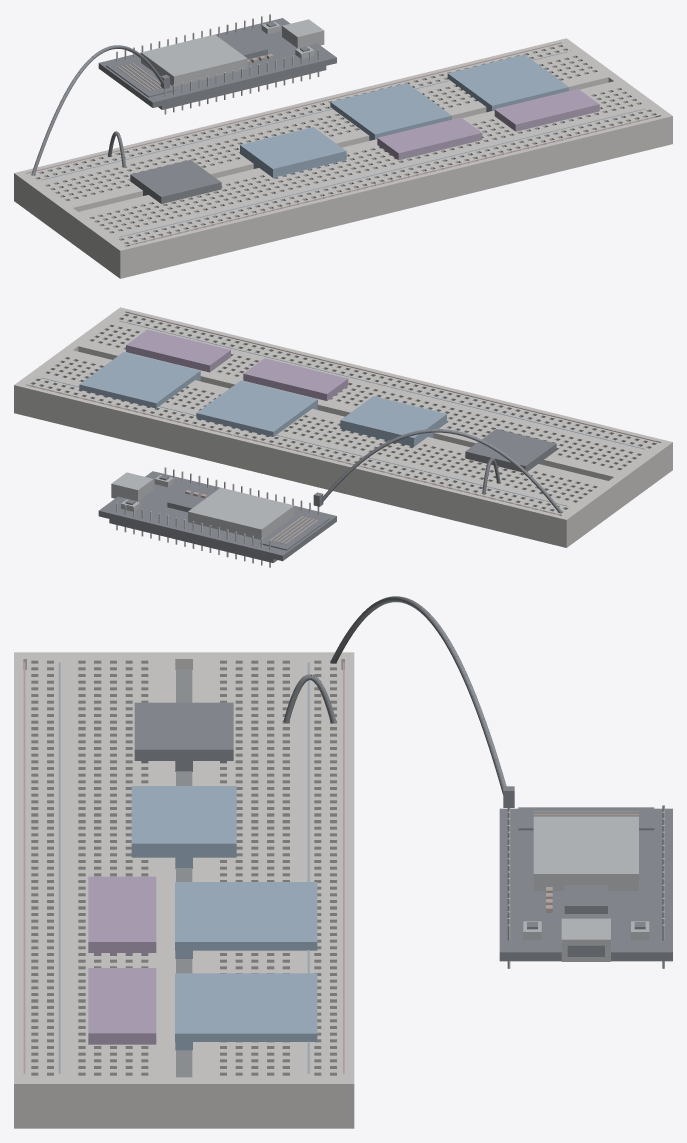
File: step-5.glb
3 renders of one model, top to bottom at view 1: azimuth 30°, elevation 25°; view 2: azimuth 150°, elevation 25°; view 3: azimuth 270°, elevation 25°, orthographic. The views are drawn at different scales.
Parts seen in each view (by area): view 1: bb1__mesh, teensy1__mesh, as5600_2__mesh, as5600_1__mesh, reg1__mesh, vl53_1__mesh, vl53_2__mesh, drv1__mesh, w_teensy_gnd__mesh; view 2: bb1__mesh, teensy1__mesh, as5600_2__mesh, as5600_1__mesh, reg1__mesh, vl53_1__mesh, vl53_2__mesh, drv1__mesh, w_teensy_gnd__mesh; view 3: bb1__mesh, teensy1__mesh, as5600_2__mesh, as5600_1__mesh, reg1__mesh, drv1__mesh, vl53_1__mesh, vl53_2__mesh, w_teensy_gnd__mesh.
Boxes of the visible parts, bbox=[...] form: bb1__mesh: bbox=[14, 38, 672, 278]; teensy1__mesh: bbox=[98, 14, 336, 114]; as5600_2__mesh: bbox=[447, 54, 568, 112]; as5600_1__mesh: bbox=[330, 83, 451, 140]; reg1__mesh: bbox=[240, 127, 346, 178]; vl53_1__mesh: bbox=[377, 117, 482, 160]; vl53_2__mesh: bbox=[494, 89, 599, 131]; drv1__mesh: bbox=[130, 160, 221, 203]; w_teensy_gnd__mesh: bbox=[31, 45, 169, 175]; bb1__mesh: bbox=[14, 307, 672, 547]; teensy1__mesh: bbox=[98, 467, 336, 567]; as5600_2__mesh: bbox=[79, 352, 200, 409]; as5600_1__mesh: bbox=[196, 380, 317, 436]; reg1__mesh: bbox=[340, 396, 446, 447]; vl53_1__mesh: bbox=[243, 358, 348, 400]; vl53_2__mesh: bbox=[126, 329, 230, 372]; drv1__mesh: bbox=[465, 429, 556, 472]; w_teensy_gnd__mesh: bbox=[313, 429, 561, 512]; bb1__mesh: bbox=[14, 652, 354, 1128]; teensy1__mesh: bbox=[499, 805, 672, 968]; as5600_2__mesh: bbox=[175, 973, 317, 1050]; as5600_1__mesh: bbox=[175, 882, 317, 958]; reg1__mesh: bbox=[131, 786, 236, 868]; drv1__mesh: bbox=[134, 702, 233, 771]; vl53_1__mesh: bbox=[88, 876, 156, 955]; vl53_2__mesh: bbox=[88, 968, 156, 1044]; w_teensy_gnd__mesh: bbox=[330, 596, 514, 807].
Size of the model in its own units: 0.165 by 0.0309 by 0.1065.
